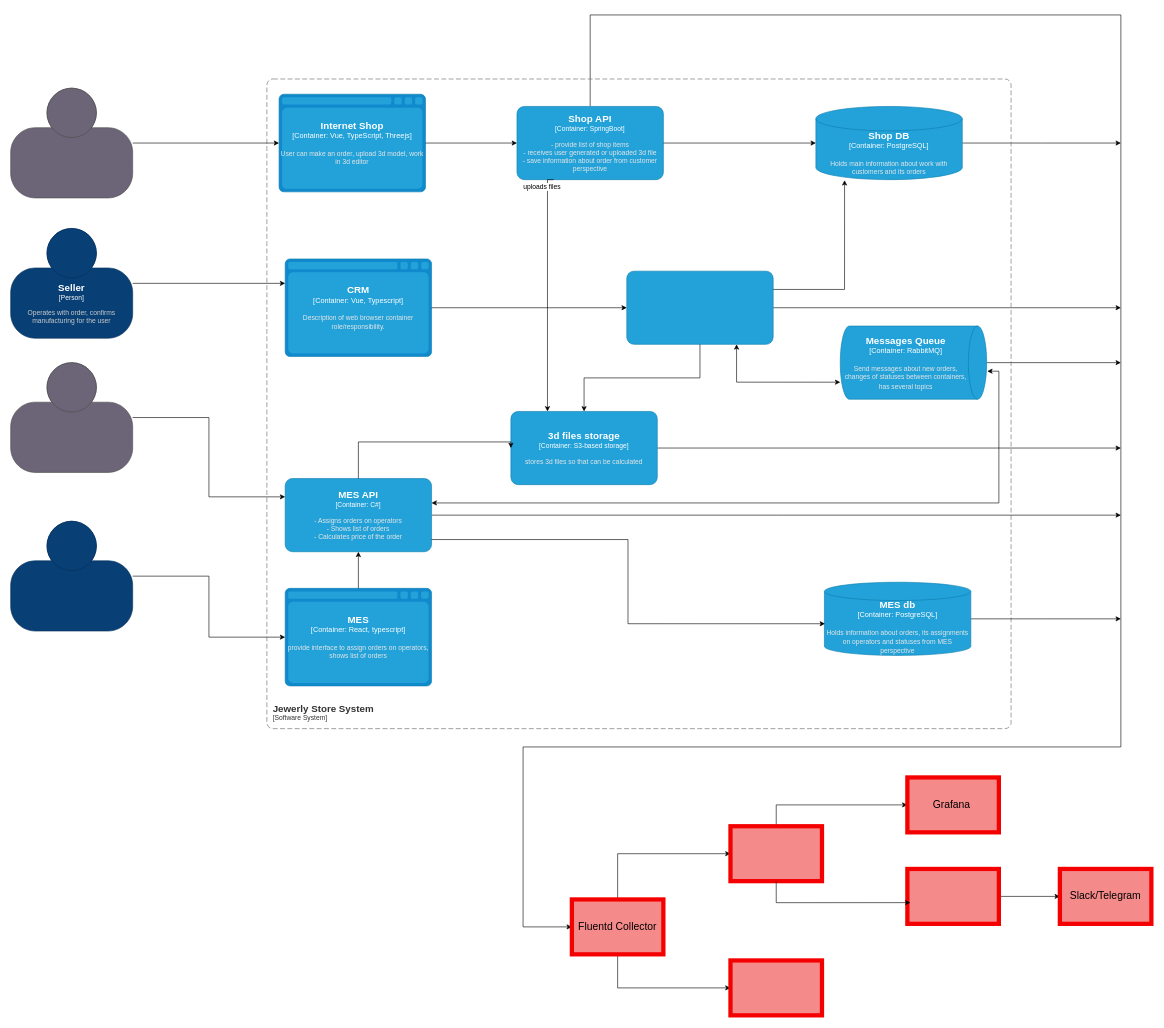
Some shapes in this 1164 by 1028 pixel diagram are drawn without their labels. Each missing label, with the centre of its shape:
Alertmanager: [953,896]
API user [Person] Description of external person.: [71,417]
CRM API [Container: SpringBoot] Description of container role/responsibility.: [699,307]
Customer [Person] Description of external person.: [71,143]
Loki Storage: [776,853]
Operator [Person] Takes order in work, manufactures jewerly: [71,576]
S3: [776,987]
